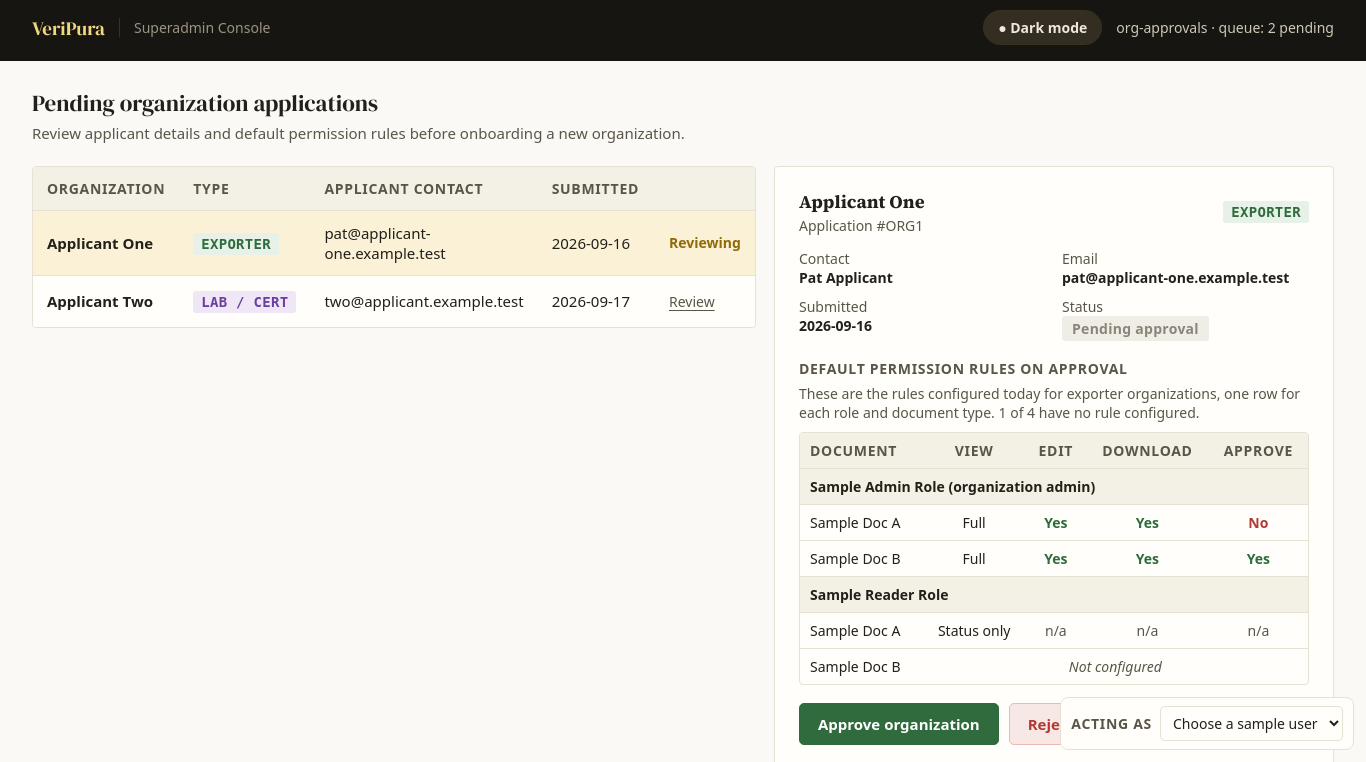
Scenario: approval: approving and rejecting › rejects after its own confirmation, and says so
The width and height of the screenshot is (1366, 762).
Click the button with aria-label "Review Applicant Two". click: {"x": 692, "y": 301}
box: [667,288,717,314]
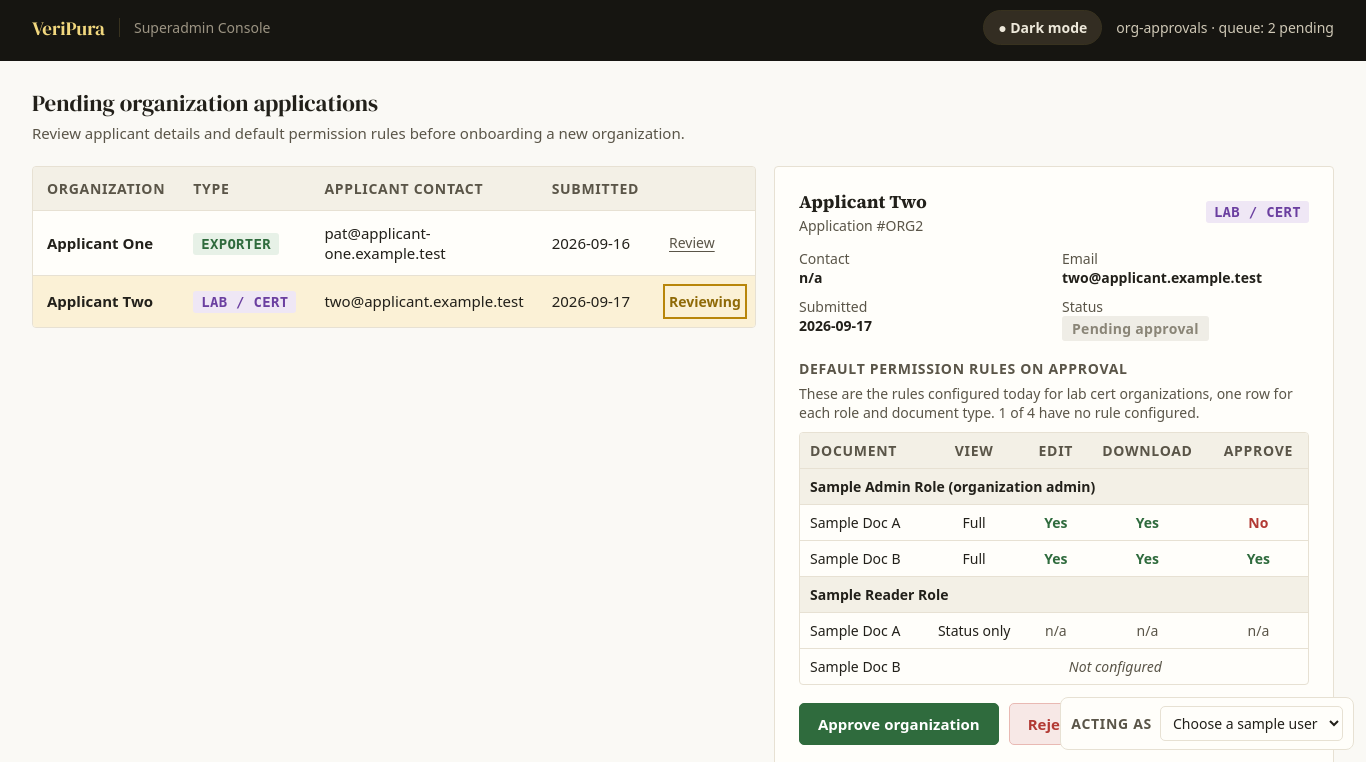
Click the button "Reject". click: {"x": 1051, "y": 724}
box: [1009,702,1093,744]
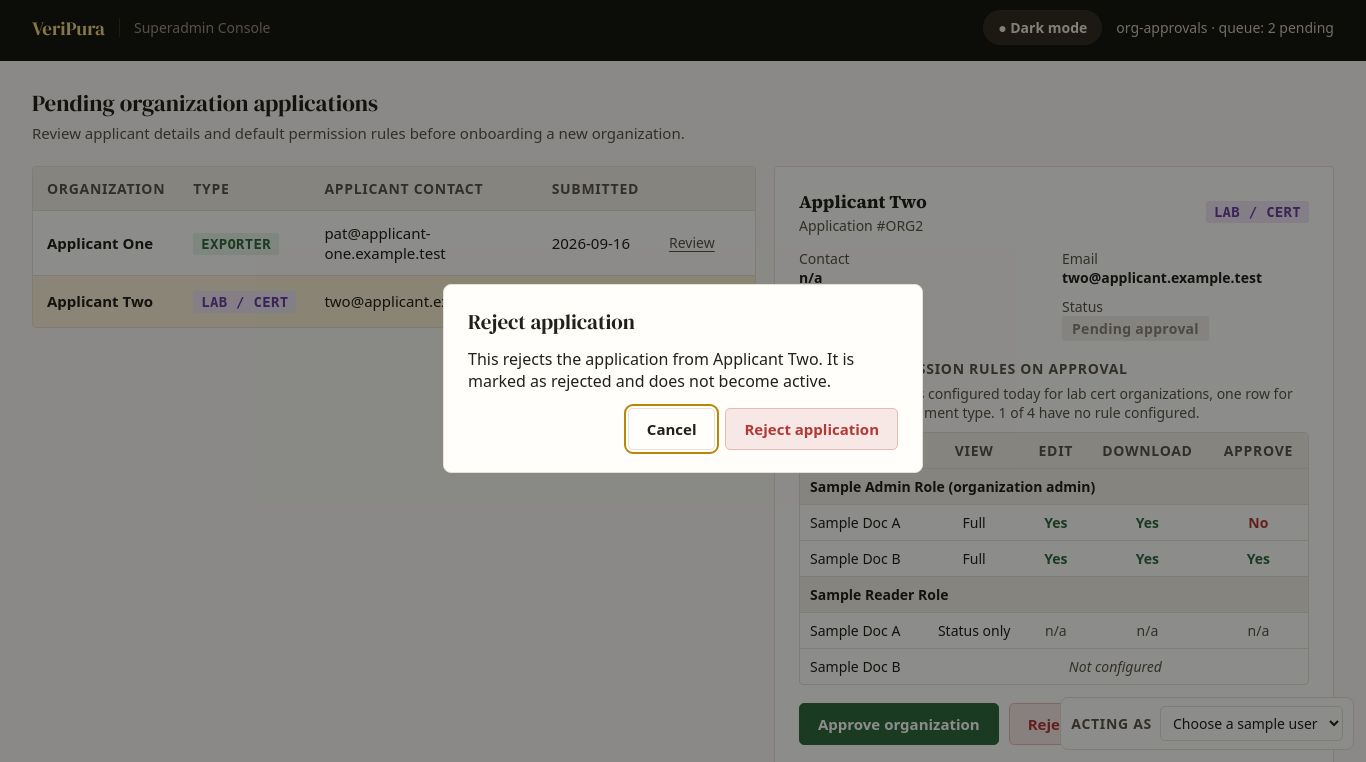
Expected: the dialog "Reject application" shows "rejects the application from Applicant Two", [468,348,854,392]
Click the button "Reject application". click: {"x": 812, "y": 428}
box: [726,408,898,450]
(page scrolled)
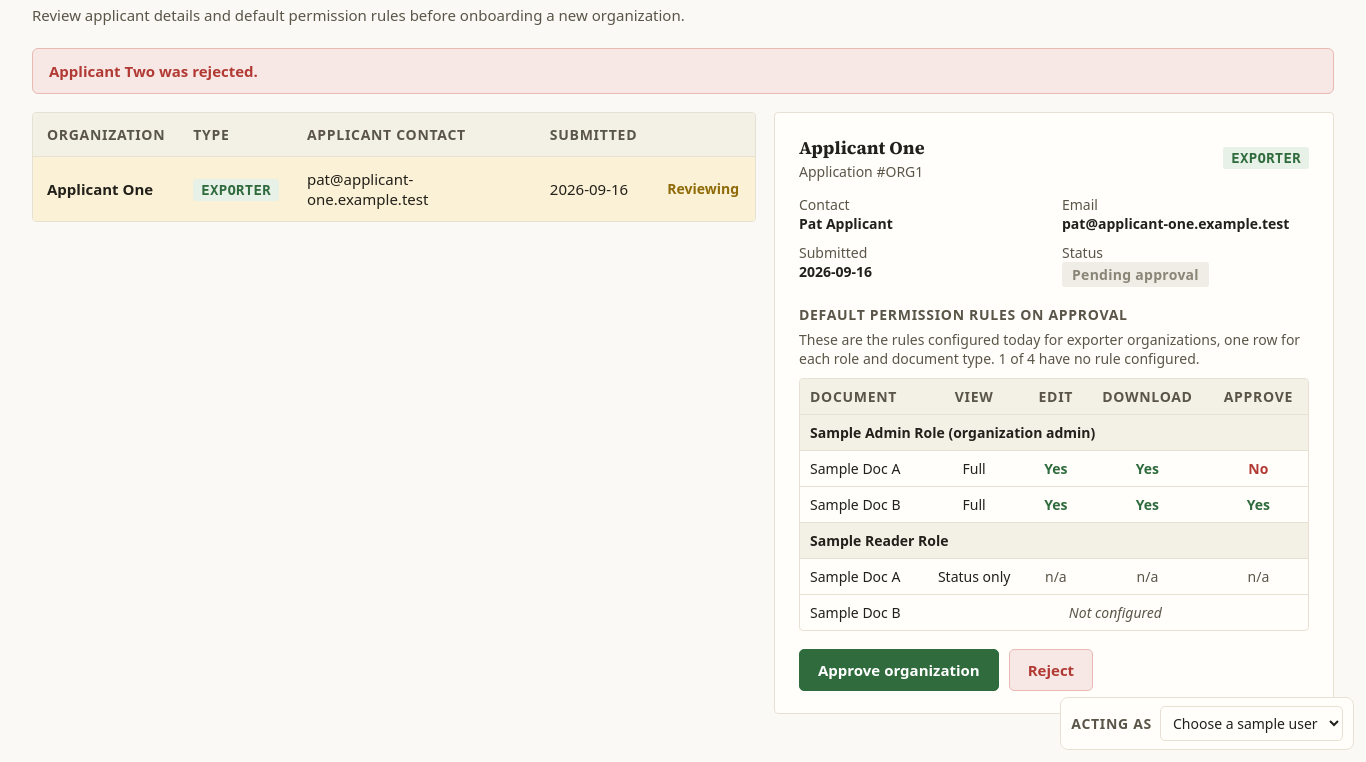
Expected: the message reads "Applicant Two was rejected.", [49,60,258,80]
Expected: the element named "Application from Applicant One" is shown, [774,112,1334,714]
